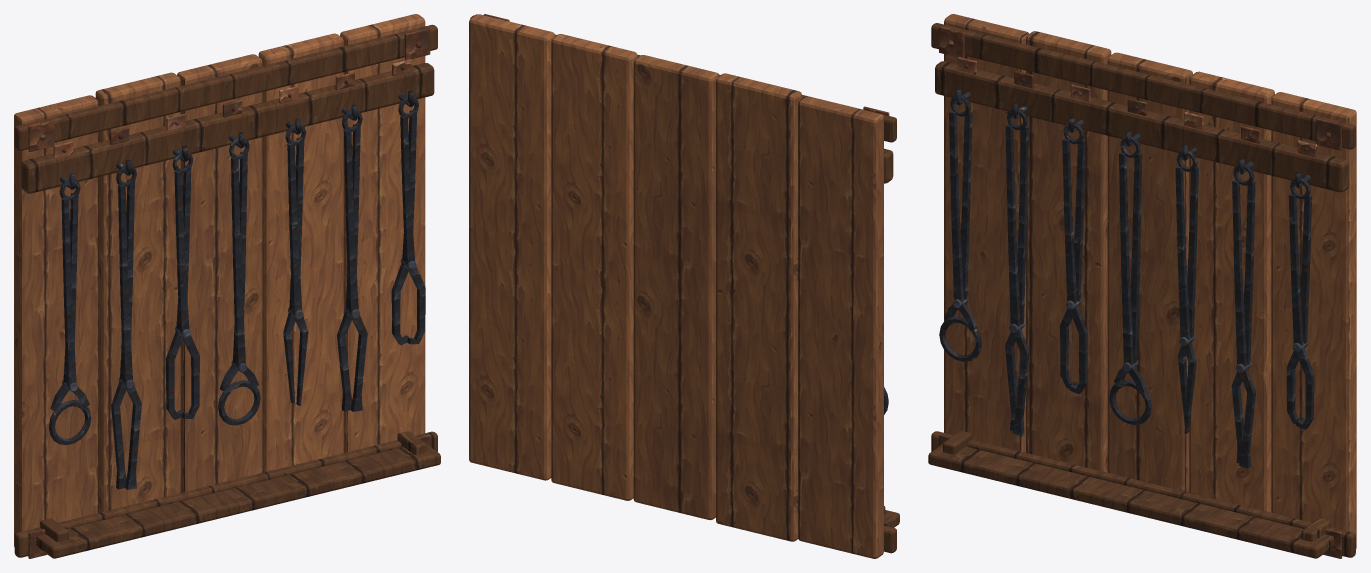
File: cf_tongs_wall.glb
3 views of the same model, side by side, from view 1: azimuth 30°, elevation 25°; view 2: azimuth 150°, elevation 25°; view 3: azimuth 330°, elevation 25° (orthographic).
Parts seen in each view (by area): view 1: model; view 2: model; view 3: model.
Part boxes in pixels (x1,y1,x2,y2): model: (14,14,440,558); model: (469,14,899,558); model: (928,14,1356,558).
Bounding box in the file's own units: 1.34 × 1.35 × 0.18.
8 materials, 8 textured.
